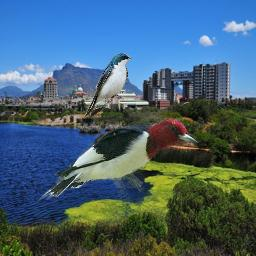Swallow: (84, 53, 132, 118)
Woodpecker: (38, 111, 203, 207)
